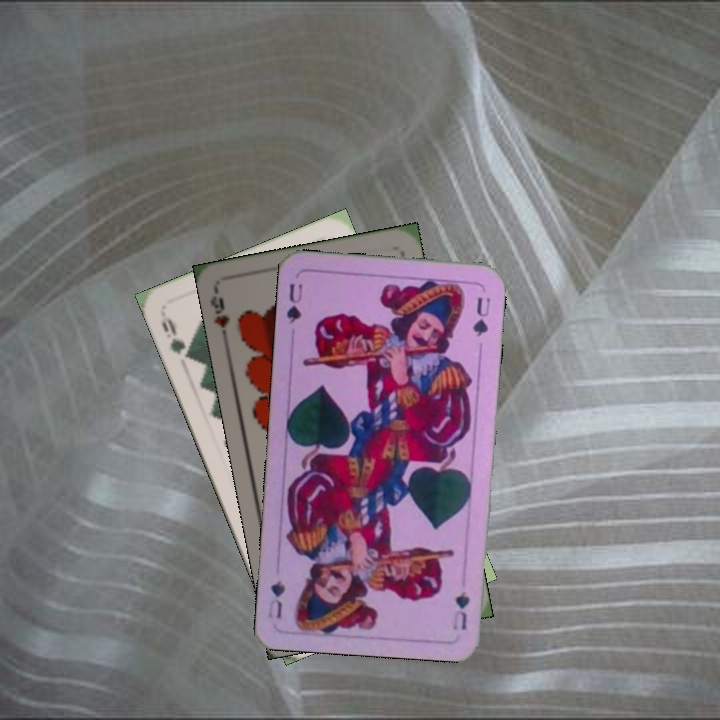G9: (157, 309, 196, 362)
GU: (282, 279, 305, 326), (449, 587, 472, 633)
H9: (206, 292, 233, 345)
